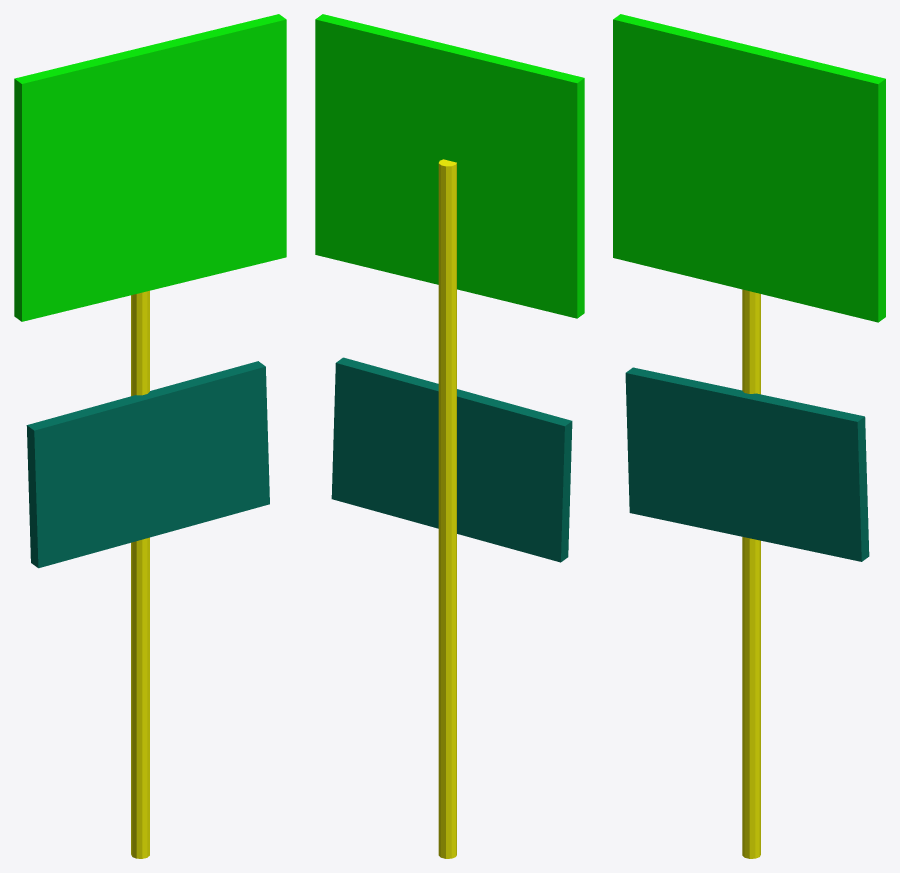
Rendered from SM_panneau_signalisation.fbx.
3 renders of one model, left to right at view 1: azimuth 30°, elevation 25°; view 2: azimuth 150°, elevation 25°; view 3: azimuth 330°, elevation 25°, orthographic.
Parts seen in each view (by area): view 1: SM_panneau_signalisation; view 2: SM_panneau_signalisation; view 3: SM_panneau_signalisation.
Part boxes in pixels (<box>): SM_panneau_signalisation: <box>14,14,286,858</box>; SM_panneau_signalisation: <box>315,14,584,858</box>; SM_panneau_signalisation: <box>613,14,885,858</box>.
Size of the model in its own units: 0.7043 by 2.06 by 0.0658.
